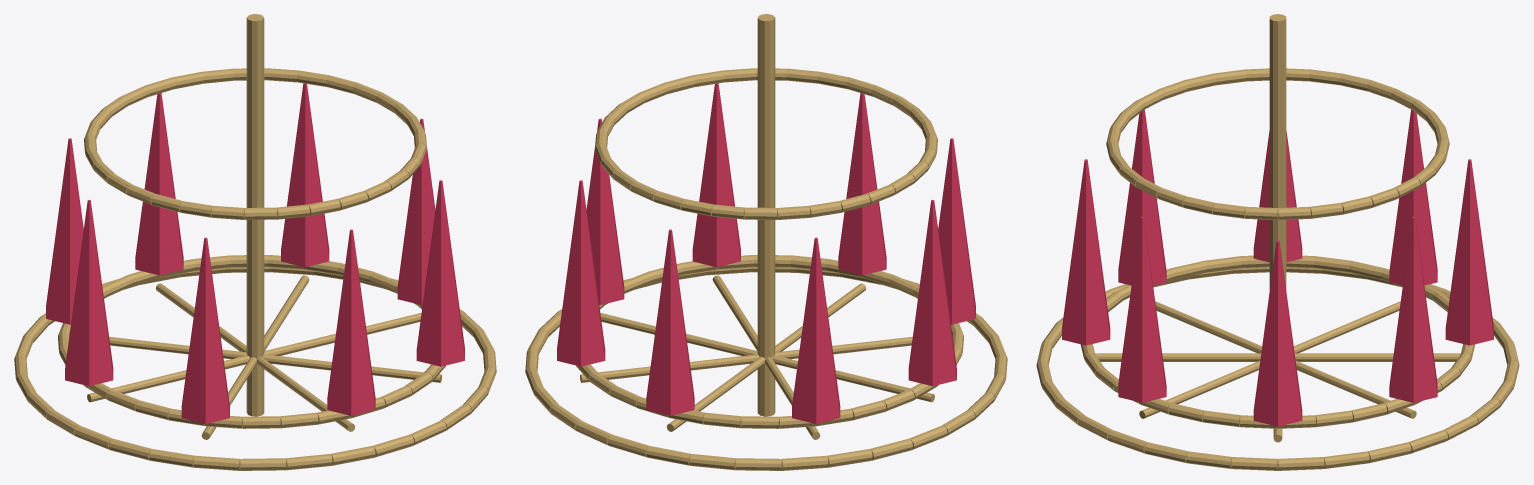
File: a6_secondary.glb
3 views of the same model, side by side, from view 1: azimuth 30°, elevation 25°; view 2: azimuth 150°, elevation 25°; view 3: azimuth 270°, elevation 25° (orthographic).
Visible parts, largest first — view 1: Body.084; view 2: Body.084; view 3: Body.084.
Boxes of the visible parts, x1,y1,x2,y2 form: Body.084: (14,14,496,470); Body.084: (525,14,1007,470); Body.084: (1036,14,1519,470).
Size of the model in its own units: 2.77 by 2.5 by 2.77.
